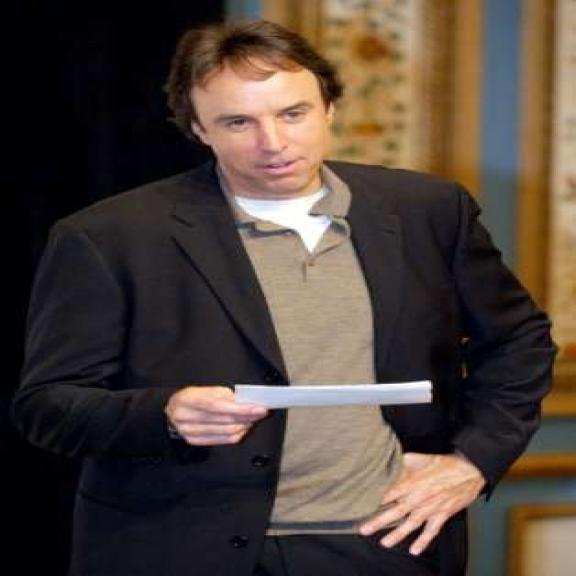face: (179, 63, 344, 195)
